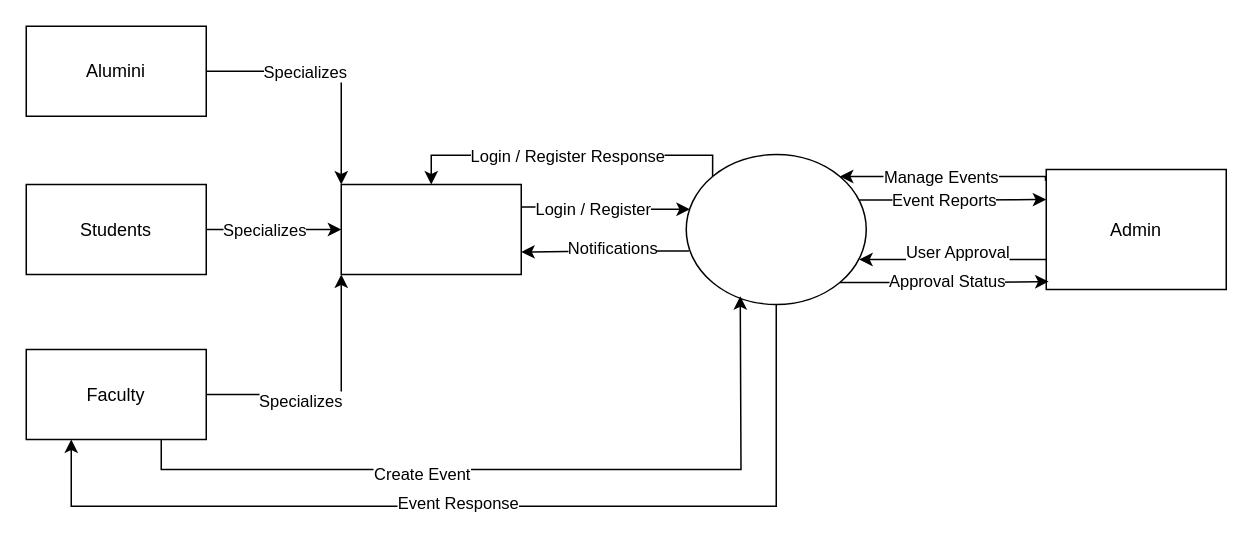
The diagram is 1253 pixels wide and 545 high, and some of its shapes have lost their labels. Here are the shapes that lost their labels. From the top down, the box of each, then its label:
(340, 183, 521, 274): User
(685, 153, 866, 304): Alumni Connection Portal
